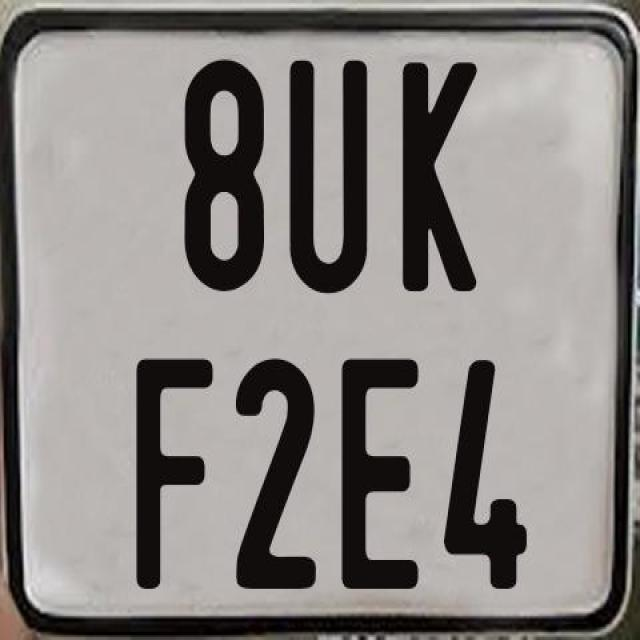2: (232, 354, 319, 588)
4: (442, 361, 530, 594)
8: (181, 58, 263, 292)
E: (339, 355, 417, 586)
F: (132, 354, 214, 588)
K: (398, 58, 482, 296)
U: (286, 61, 370, 300)
